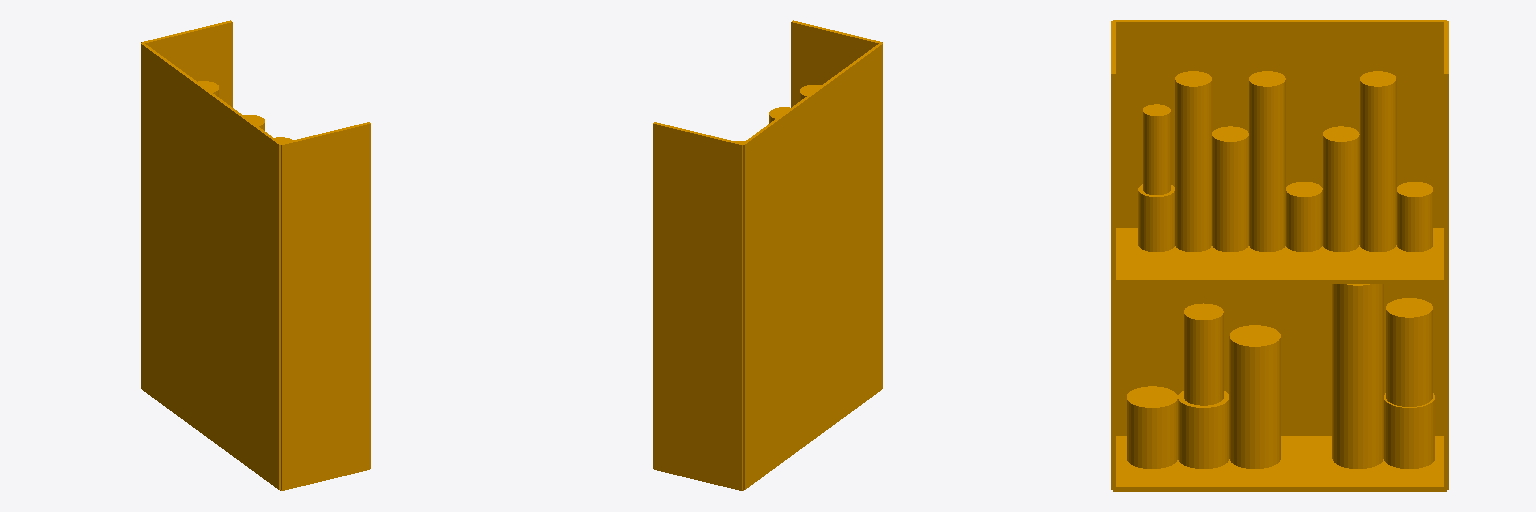
The robot description file, URDF, robot "syn_can_cabinet_packed_uniform_48":
<?xml version="1.0" ?>
<robot name="syn_can_cabinet_packed_uniform_48">
    <link concave="yes" name="base_link">
        <inertial>
            <origin rpy="0 0 0" xyz="0 0 0"/>
            <mass value="0.0"/>
            <inertia ixx="1e-08" ixy="0" ixz="0" iyy="1e-08" iyz="0" izz="1e-08"/>
        </inertial>
        <visual>
            <origin xyz="0 0 0" rpy="0 0 0" />
            <geometry>
                <mesh filename="syn_can_cabinet_packed_uniform_48.obj" scale="1.000000 1.000000 1.000000"/>
            </geometry>         
        </visual>

        <collision concave="yes">
            <origin xyz="0 0 0" rpy="0 0 0"/>
            <geometry>
                <mesh filename="syn_can_cabinet_packed_uniform_48.obj" scale="1.000000 1.000000 1.000000"/>
            </geometry>
        </collision>
    </link>
</robot>
    

--- What the picture shows (computed from the rendered views, not written in the file) ---
The picture shows the robot from 3 angles, left to right: view 1: azimuth 30°, elevation 25°; view 2: azimuth 150°, elevation 25°; view 3: azimuth 270°, elevation 25°; orthographic projection.
Model syn_can_cabinet_packed_uniform_48 with 1 links and 0 joints (none), rooted at base_link, posed all joints at 0.
Links seen in each view (by area): view 1: base_link; view 2: base_link; view 3: base_link.
Boxes of the visible links, x1=… form: base_link: x1=141, y1=20, x2=370, y2=490; base_link: x1=653, y1=20, x2=882, y2=490; base_link: x1=1111, y1=20, x2=1448, y2=491.
Bounding box of the posed robot: 0.1549 × 0.4156 × 0.5652 m (x, y, z).
Meshes: 1 distinct files referenced, 1 mesh visuals loaded (1 OBJ).
